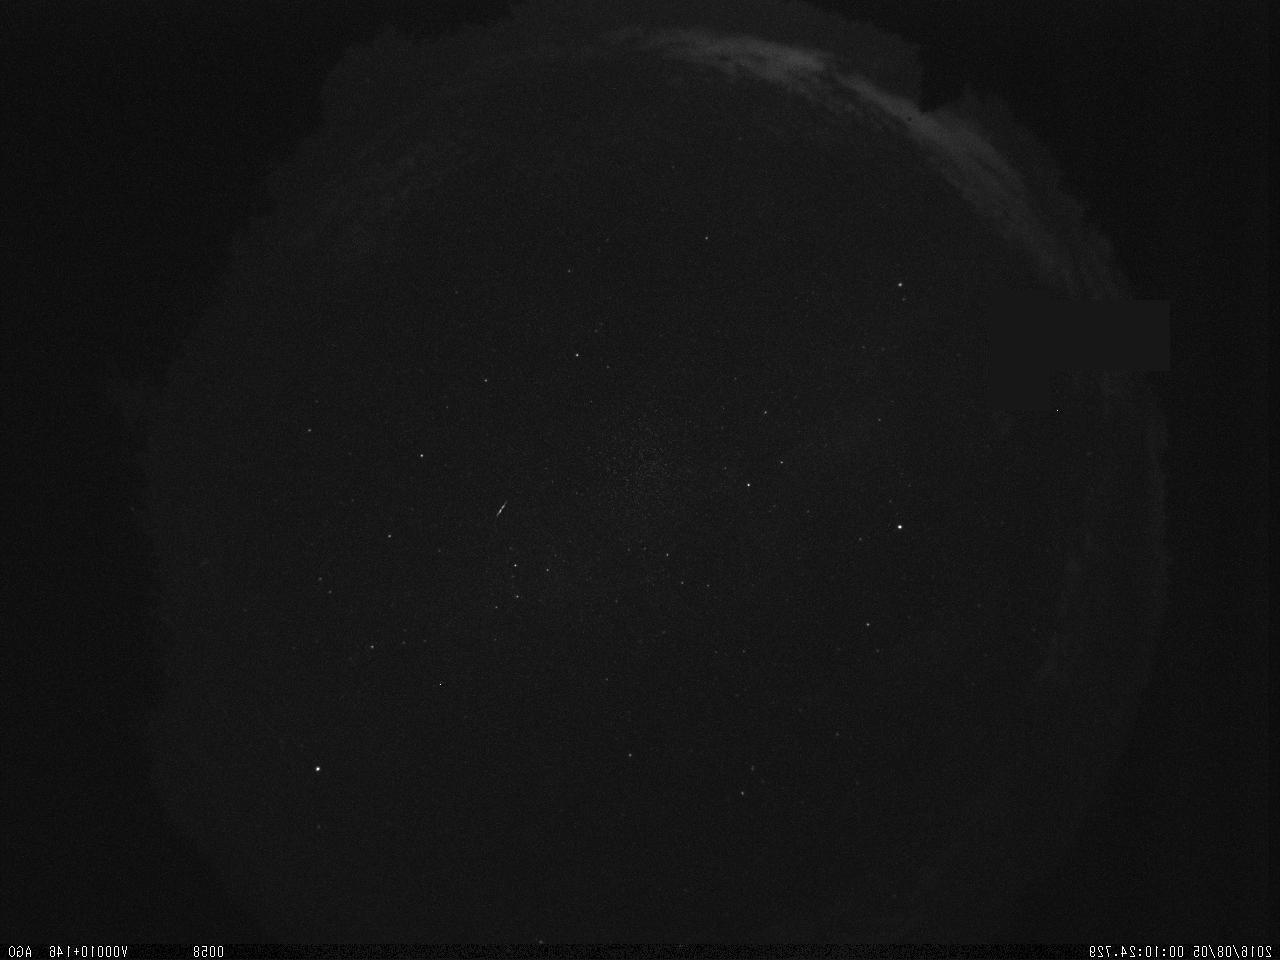meteor: (487, 495, 516, 523)
